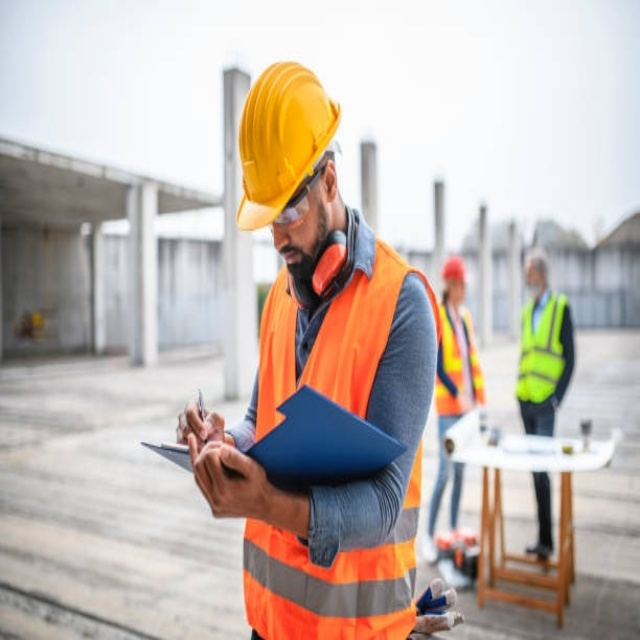Gafas: (271, 165, 327, 226)
Sin_guantes: (188, 439, 274, 525), (411, 577, 466, 635), (176, 394, 221, 447)
Sin_mascara: (275, 243, 307, 281)
